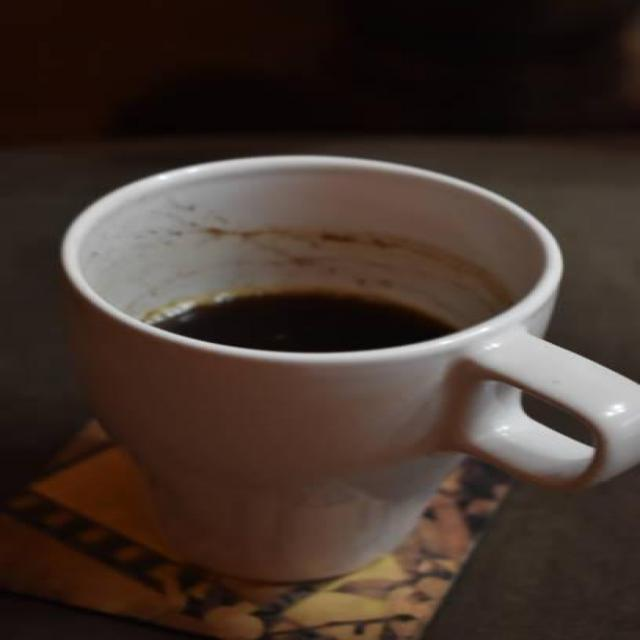cup-handle: (59, 154, 637, 584)
